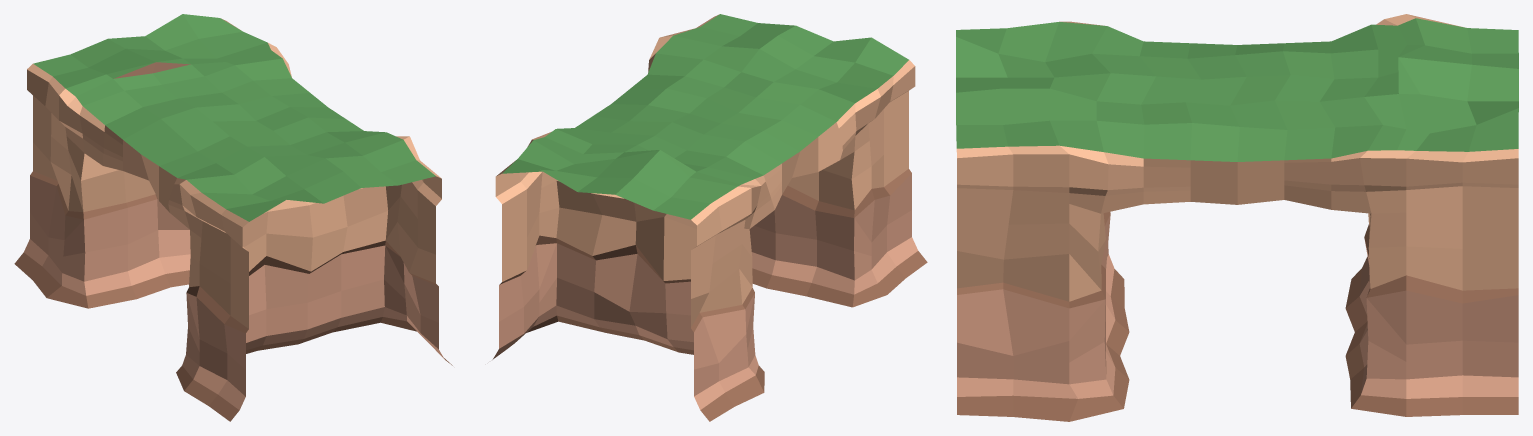
Rendered from CliffOverhang.fbx.
3 renders of one model, left to right at view 1: azimuth 30°, elevation 25°; view 2: azimuth 150°, elevation 25°; view 3: azimuth 270°, elevation 25°, orthographic. The views are drawn at different scales.
Visible parts, largest first — view 1: CliffOverHang; view 2: CliffOverHang; view 3: CliffOverHang.
Part boxes in pixels (x1,y1,x2,y2): CliffOverHang: [14, 14, 452, 421]; CliffOverHang: [492, 14, 927, 421]; CliffOverHang: [956, 14, 1518, 421].
Bounding box in the file's own units: 26310 × 21707 × 40060.
